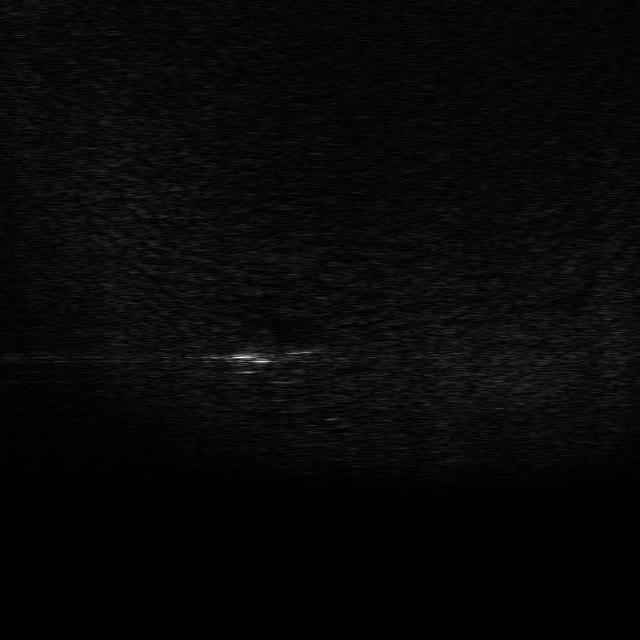plane: (220, 326, 325, 378)
